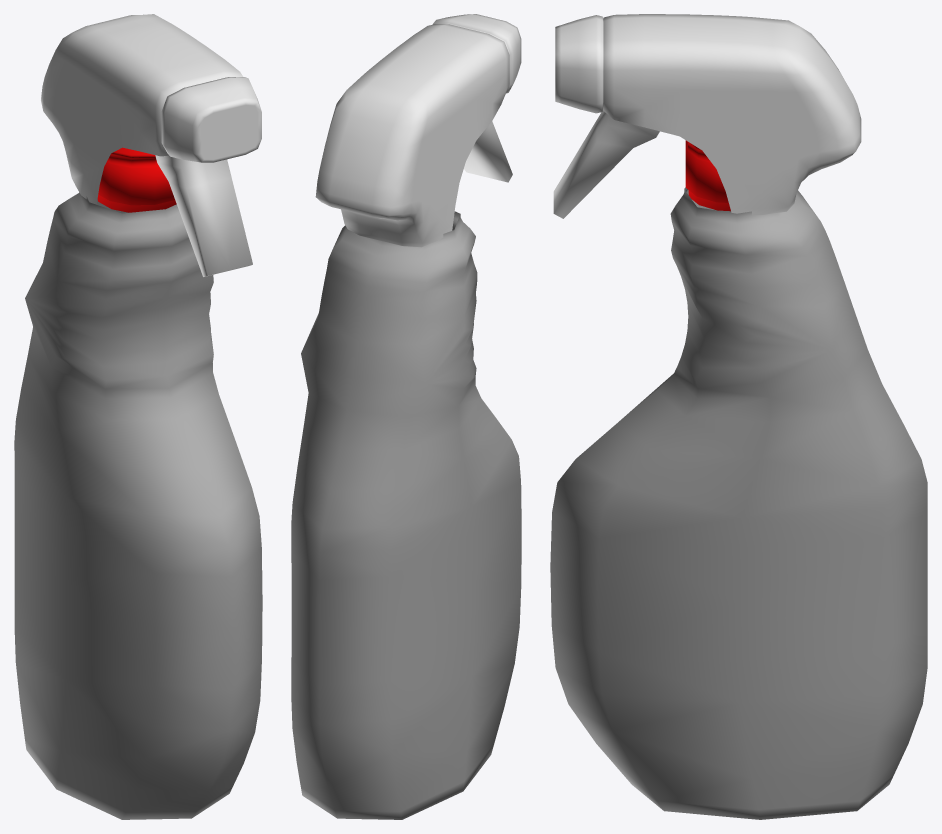
The model's file is spray.fbx.
The picture shows the model from 3 angles, left to right: view 1: azimuth 30°, elevation 25°; view 2: azimuth 150°, elevation 25°; view 3: azimuth 270°, elevation 25°; orthographic projection. The views are drawn at different scales.
Visible parts, largest first — view 1: Cube, Plane, Plane.001, Cylinder; view 2: Cube, Plane, Plane.001; view 3: Cube, Plane, Plane.001, Cylinder.
Part boxes in pixels (x1,y1,x2,y2): Cube: (14, 192, 262, 819); Plane: (41, 14, 261, 204); Plane.001: (155, 155, 252, 276); Cylinder: (97, 147, 176, 212); Cube: (291, 211, 521, 819); Plane: (315, 14, 521, 247); Plane.001: (464, 121, 512, 182); Cube: (550, 187, 927, 819); Plane: (555, 14, 861, 215); Plane.001: (553, 110, 659, 218); Cylinder: (685, 140, 730, 211).
Bounding box in the file's own units: 200 × 998 × 452.
